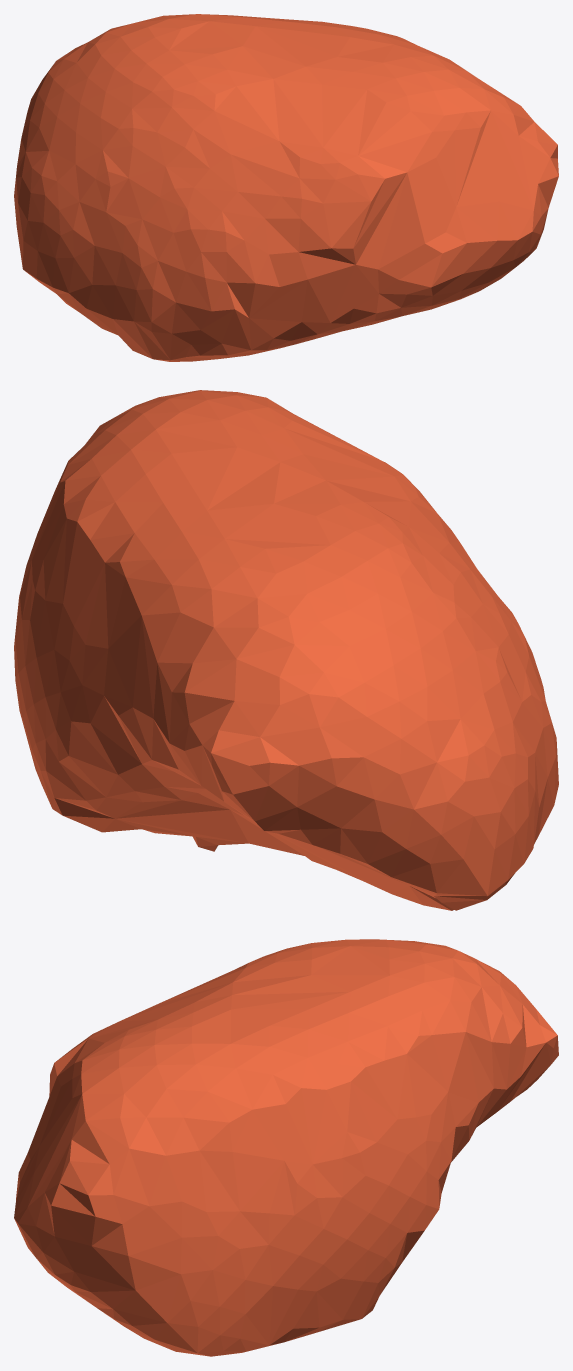
Rendered from Model_10631_LH__Superior_vestibular_nucleus_(SuVe).obj.
3 views of the same model, one above another, from view 1: azimuth 30°, elevation 25°; view 2: azimuth 150°, elevation 25°; view 3: azimuth 270°, elevation 25° (orthographic). The views are drawn at different scales.
Size of the model in its own units: 1.39 by 0.8798 by 1.37.
